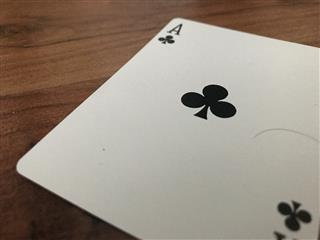AceOfClubs: (16, 17, 320, 240)
